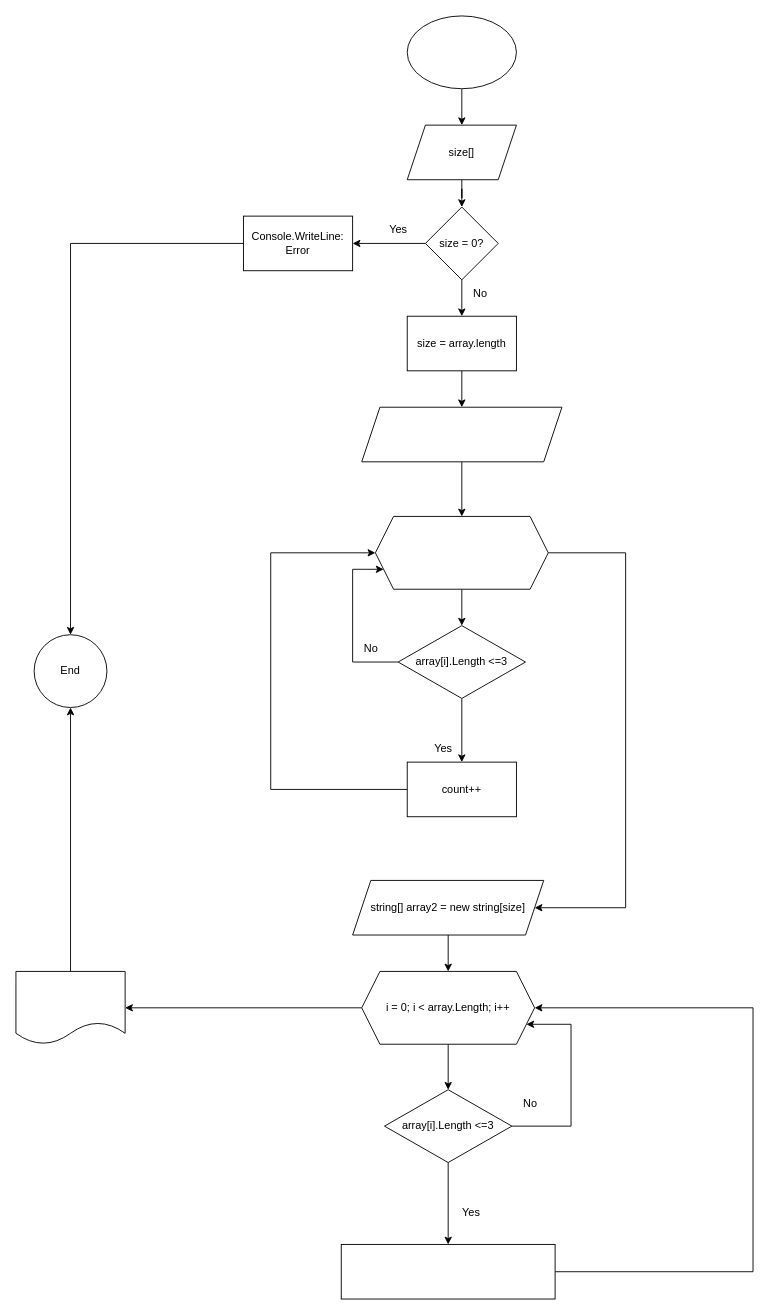
The diagram is 776 pixels wide and 1315 high, and some of its shapes have lost their labels. The centre of each missing label's shape, as x and y in pixels:
"array2[array2.Length - size] = array[i] size--" belongs at point 447,1271.
"int count = 0; i = 0; i < array1.Length; i++" belongs at point 461,552.
"ShowArrayText Console.WriteLine()" belongs at point 70,1007.
"Start" belongs at point 461,52.
"string[] array1 = new string[size]" belongs at point 461,434.
